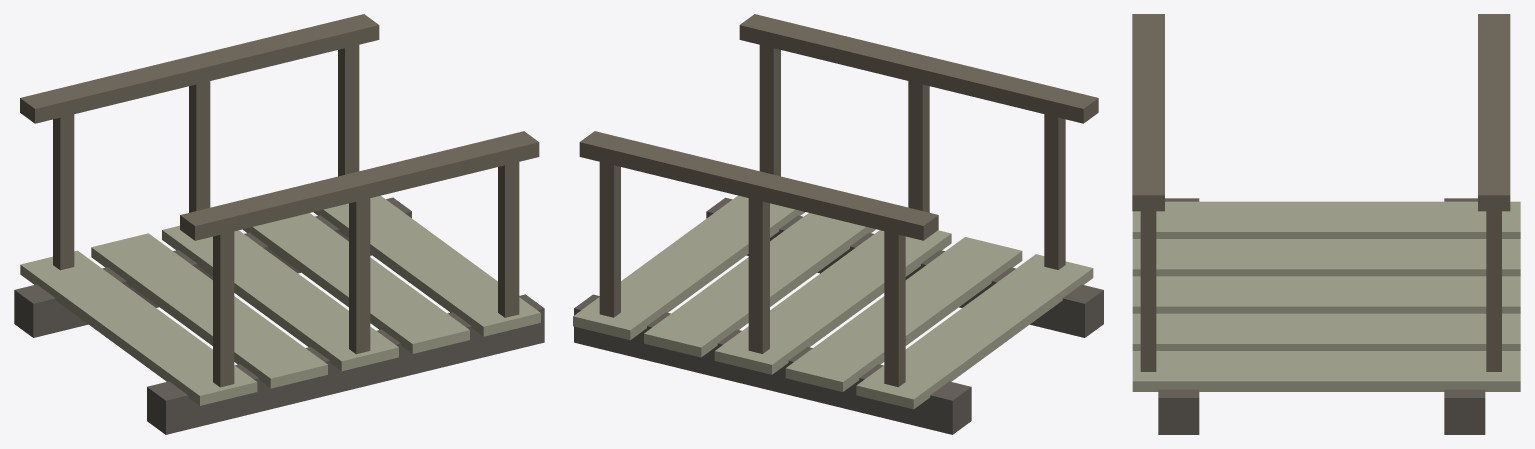
Rendered from Bridge.fbx.
3 renders of one model, left to right at view 1: azimuth 30°, elevation 25°; view 2: azimuth 150°, elevation 25°; view 3: azimuth 270°, elevation 25°, orthographic. The views are drawn at different scales.
Parts seen in each view (by area): view 1: polySurface3, polySurface1, polySurface2; view 2: polySurface3, polySurface1, polySurface2; view 3: polySurface3, polySurface1, polySurface2.
Part boxes in pixels (x1,y1,x2,y2): polySurface3: (20, 195, 540, 405); polySurface1: (20, 14, 539, 387); polySurface2: (14, 197, 544, 434); polySurface3: (573, 195, 1093, 409); polySurface1: (579, 14, 1098, 387); polySurface2: (574, 197, 1103, 434); polySurface3: (1132, 201, 1520, 391); polySurface1: (1132, 14, 1510, 371); polySurface2: (1158, 198, 1485, 434).
Size of the model in its own units: 132 by 71.05 by 109.
